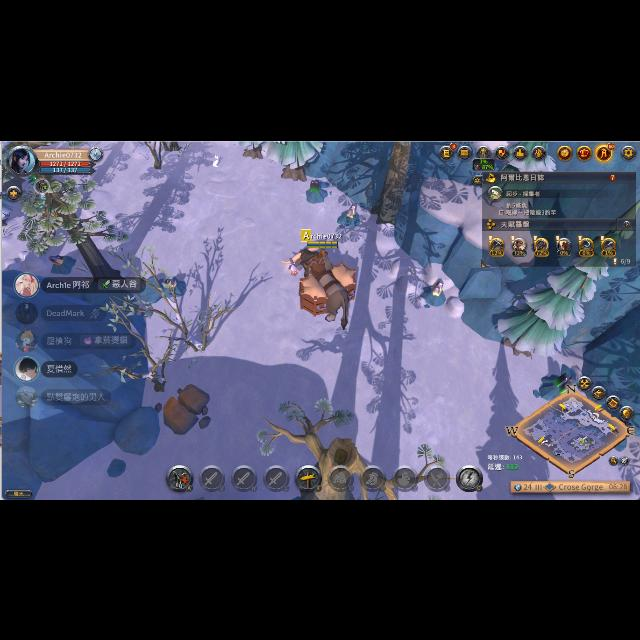mine_ii: (47, 252, 77, 274), (424, 278, 448, 304), (159, 273, 183, 295), (343, 202, 363, 224)
mine_iii: (540, 368, 576, 397), (303, 178, 329, 202)
